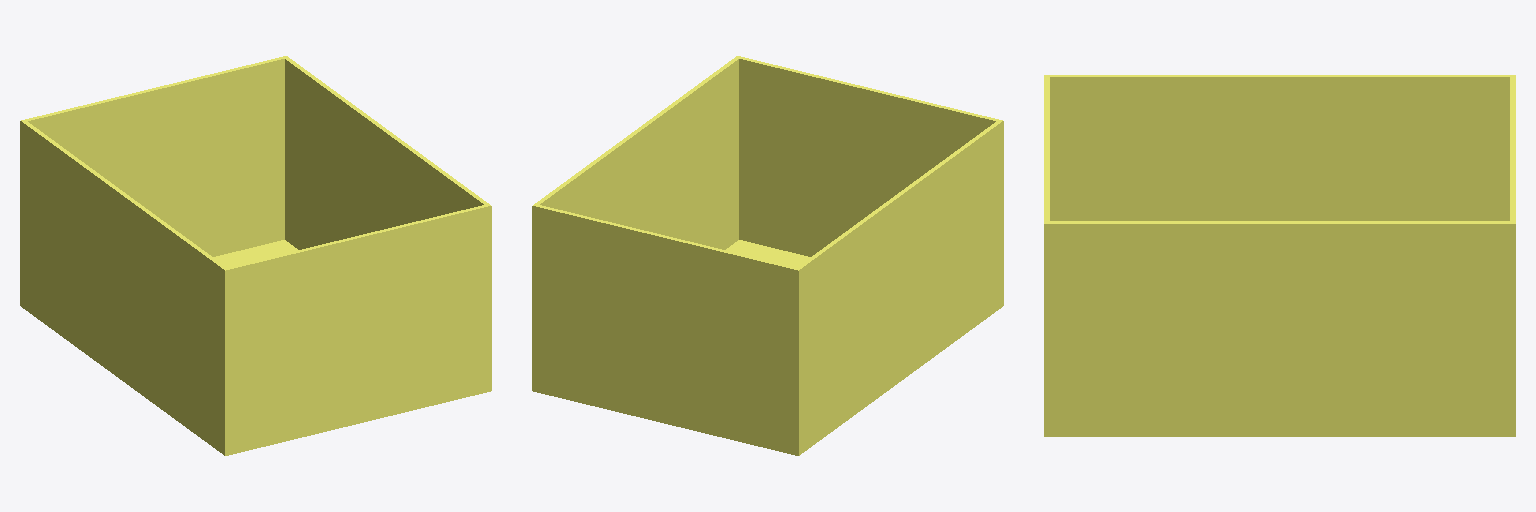
The robot description file, URDF, robot "container1":
<?xml version="1.0" ?>
<!-- =================================================================================== -->
<!-- |    This document was autogenerated by xacro from data/container2.urdf.xacro     | -->
<!-- |    EDITING THIS FILE BY HAND IS NOT RECOMMENDED                                 | -->
<!-- =================================================================================== -->
<!-- Receiving container of ode_grpour_sim -->
<robot name="container1" xmlns:xacro="http://www.ros.org/wiki/xacro">
  <material name="container_material">
    <color rgba="1 1 0.5 1"/>
  </material>
  <link name="base_link">
    <contact>
      <rolling_friction value="0.1"/>
      <spinning_friction value="0.1"/>
    </contact>
    <inertial>
      <origin rpy="0 0 0" xyz="0 0 0"/>
      <mass value="0.7"/>
      <inertia ixx="1" ixy="0" ixz="0" iyy="1" iyz="0" izz="1"/>
    </inertial>
    <visual>
      <origin rpy="0 0 0" xyz="0.0 0.0 0.0025"/>
      <geometry>
        <box size="0.29 0.39 0.005"/>
      </geometry>
      <material name="container_material"/>
    </visual>
    <collision>
      <origin rpy="0 0 0" xyz="0.0 0.0 0.0025"/>
      <geometry>
        <box size="0.29 0.39 0.005"/>
      </geometry>
    </collision>
    <visual>
      <origin rpy="0 0 0" xyz="0.1475 0.0 0.1"/>
      <geometry>
        <box size="0.005 0.4 0.2"/>
      </geometry>
      <material name="container_material"/>
    </visual>
    <collision>
      <origin rpy="0 0 0" xyz="0.1475 0.0 0.1"/>
      <geometry>
        <box size="0.005 0.4 0.2"/>
      </geometry>
    </collision>
    <visual>
      <origin rpy="0 0 0" xyz="-0.1475 0.0 0.1"/>
      <geometry>
        <box size="0.005 0.4 0.2"/>
      </geometry>
      <material name="container_material"/>
    </visual>
    <collision>
      <origin rpy="0 0 0" xyz="-0.1475 0.0 0.1"/>
      <geometry>
        <box size="0.005 0.4 0.2"/>
      </geometry>
    </collision>
    <visual>
      <origin rpy="0 0 0" xyz="0.0 0.1975 0.1"/>
      <geometry>
        <box size="0.29 0.005 0.2"/>
      </geometry>
      <material name="container_material"/>
    </visual>
    <collision>
      <origin rpy="0 0 0" xyz="0.0 0.1975 0.1"/>
      <geometry>
        <box size="0.29 0.005 0.2"/>
      </geometry>
    </collision>
    <visual>
      <origin rpy="0 0 0" xyz="0.0 -0.1975 0.1"/>
      <geometry>
        <box size="0.29 0.005 0.2"/>
      </geometry>
      <material name="container_material"/>
    </visual>
    <collision>
      <origin rpy="0 0 0" xyz="0.0 -0.1975 0.1"/>
      <geometry>
        <box size="0.29 0.005 0.2"/>
      </geometry>
    </collision>
  </link>
</robot>

--- Render facts (derived) ---
Views: 3 orthographic renders of the robot side by side, from view 1: azimuth 30°, elevation 25°; view 2: azimuth 150°, elevation 25°; view 3: azimuth 270°, elevation 25°.
Robot: container1 — 1 links, 0 joints (none); root link base_link; default pose: all joints at 0.
Links seen in each view (by area): view 1: base_link; view 2: base_link; view 3: base_link.
Boxes of the visible links, x1,y1,x2,y2 form: base_link: (20,56,491,455); base_link: (532,56,1003,455); base_link: (1044,75,1515,436).
Bounding box of the posed robot: 0.3 × 0.4 × 0.2 m (x, y, z).
Geometry: primitives only (box / cylinder / sphere), no mesh files.
